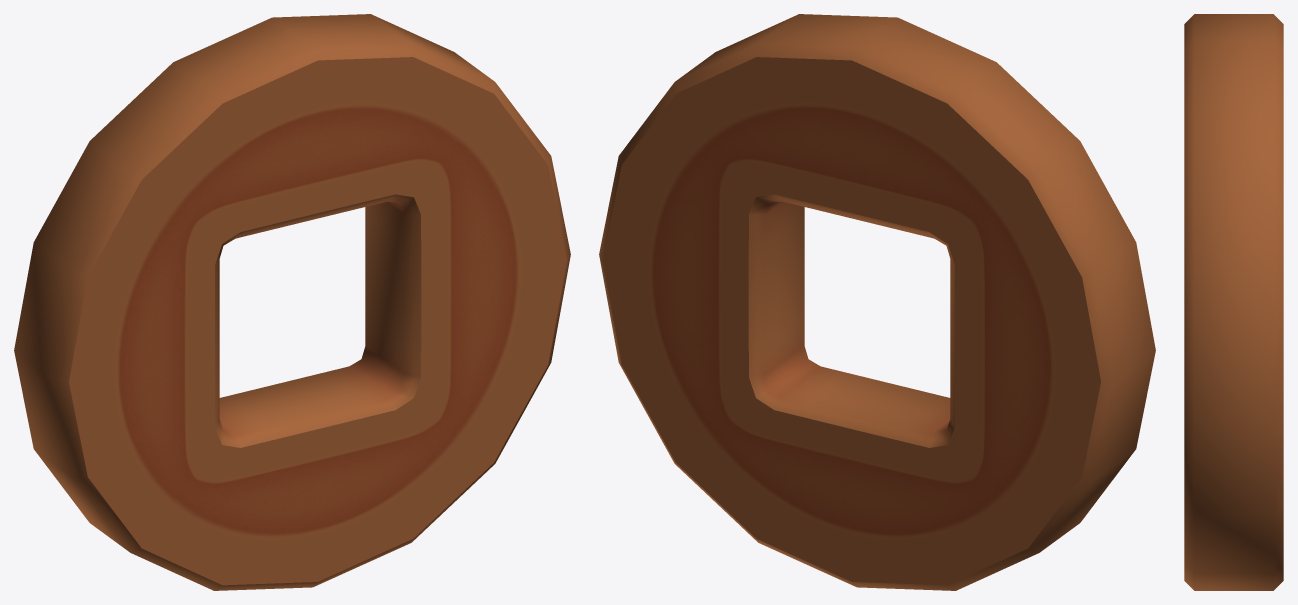
File: Coin_Chinese_Bronze.FBX
The picture shows the model from 3 angles, left to right: view 1: azimuth 30°, elevation 25°; view 2: azimuth 150°, elevation 25°; view 3: azimuth 270°, elevation 25°; orthographic projection. The views are drawn at different scales.
Parts seen in each view (by area): view 1: Coin_Chinese_Bronze; view 2: Coin_Chinese_Bronze; view 3: Coin_Chinese_Bronze.
Part boxes in pixels (<box>): Coin_Chinese_Bronze: <box>14,14,570,590</box>; Coin_Chinese_Bronze: <box>599,14,1155,590</box>; Coin_Chinese_Bronze: <box>1184,14,1283,590</box>.
Size of the model in its own units: 63 by 63 by 10.8.
1 material, 1 textured.
